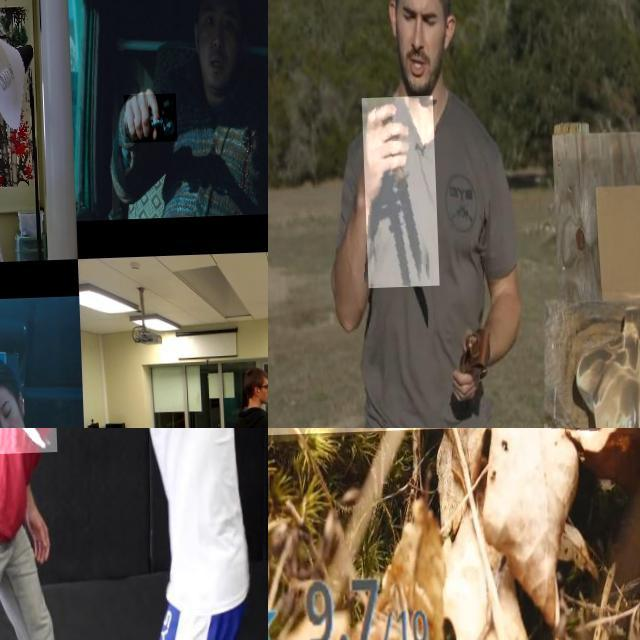-: (268, 428, 640, 528), (361, 98, 436, 290), (0, 428, 55, 481)
gun-knife-thesis - v11 Yolov5 augmented: (122, 96, 176, 146), (0, 138, 18, 186)
